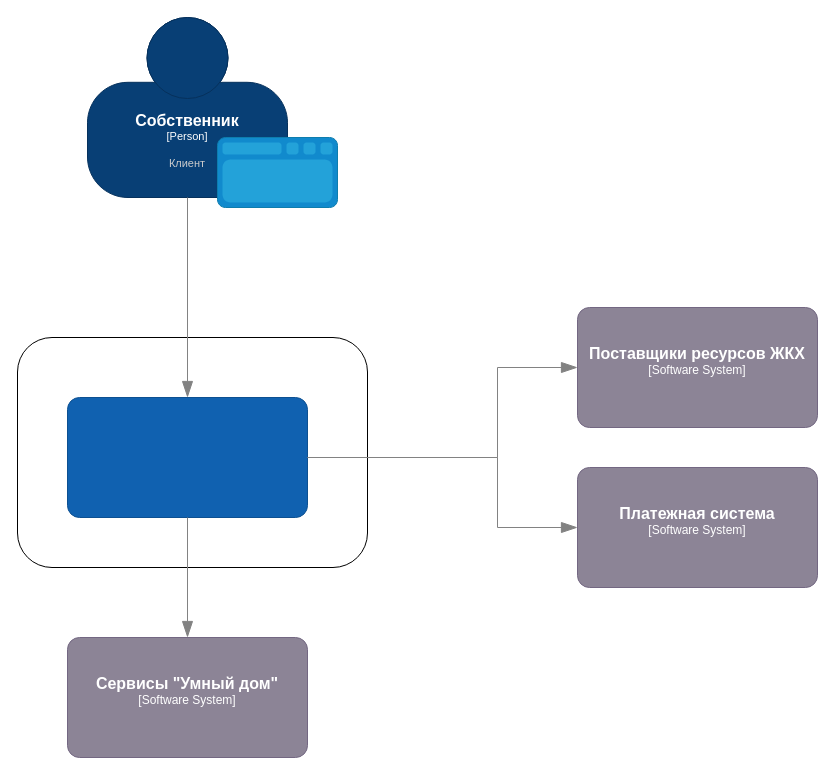
Image size: 835x775. Some labels were removed from this diagram. The shapes that lost their labels are listed below. From the top down, each one's centre as x and y in pixels, then its label:
the point at 277,172: MobileApp [: Android,IOS]
the point at 187,457: Сервисы ЖКУ [Software System]
